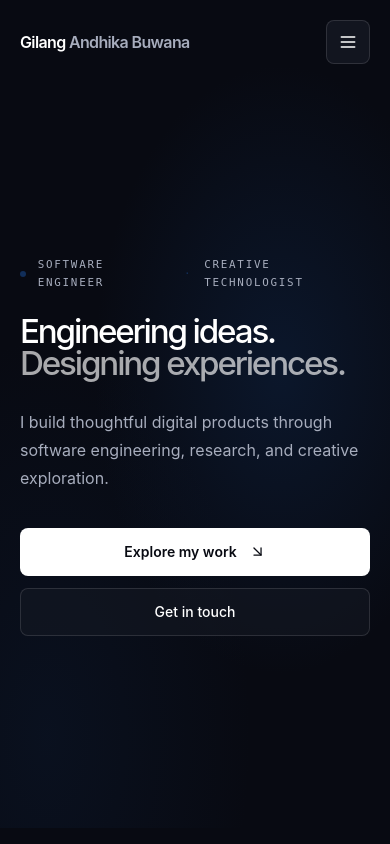
Test case: App › opens the mobile menu and closes it after selecting a destination
Click the button named "Open navigation menu".
click(348, 42)  # box [326,20,370,64]
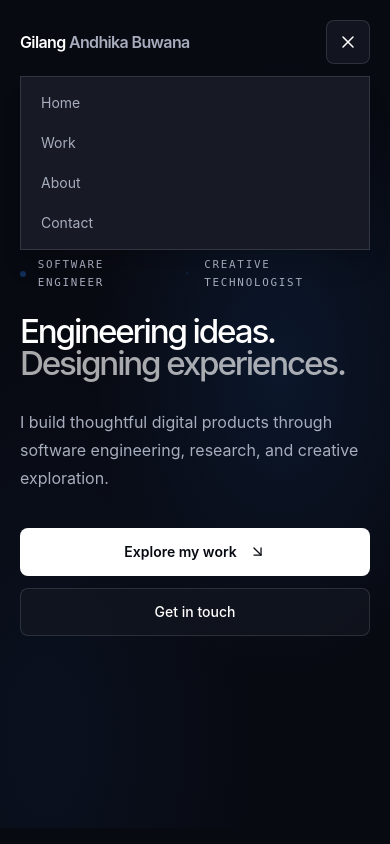
Now the button named "Close navigation menu" is expanded, box [326,20,370,64]
Click the link with id "work".
click(58, 142)  # box [41,134,76,151]
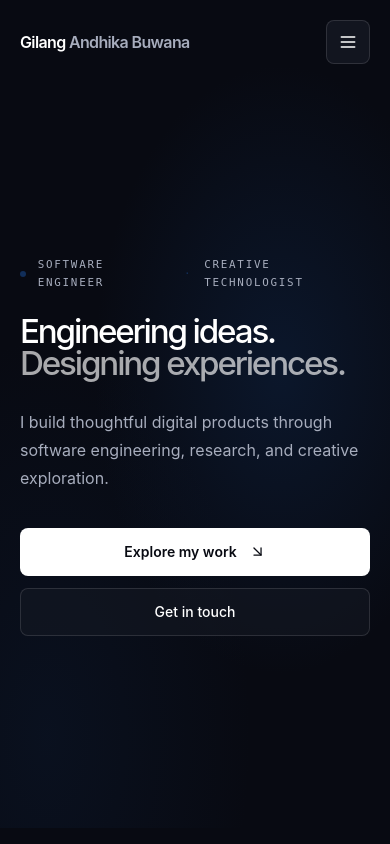
Now the button named "Open navigation menu" is collapsed, box [326,20,370,64]
